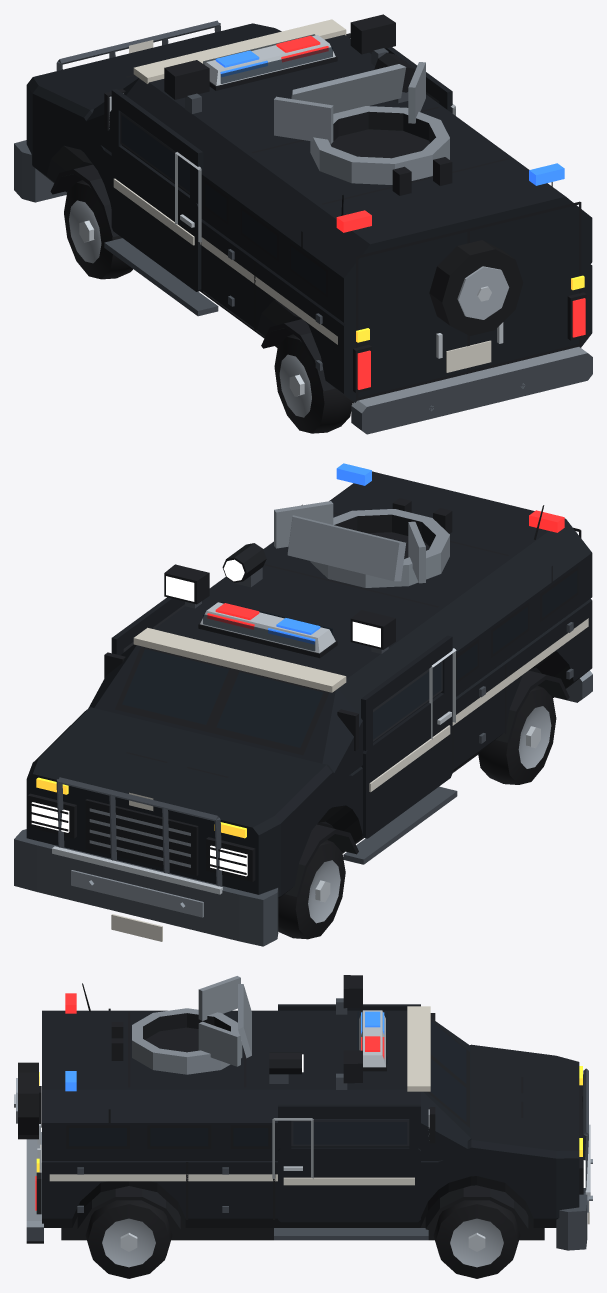
File: police_tactical.glb
3 views of the same model, one above another, from view 1: azimuth 30°, elevation 25°; view 2: azimuth 150°, elevation 25°; view 3: azimuth 270°, elevation 25° (orthographic). The views are drawn at different scales.
Visible parts, largest first — view 1: Body, DoorL, Wheel_RL, Wheel_FL, SirenBar, DoorR, SirenBar_L, SirenBar_R; view 2: Body, DoorL, Wheel_RL, Wheel_FL, SirenBar, DoorR, SirenBar_R, SirenBar_L; view 3: Body, DoorR, Wheel_FR, Wheel_RR, SirenBar, DoorL.
Boxes of the visible parts, box(x1,y1,x2,y2) form: Body: box(14, 14, 592, 434); DoorL: box(104, 89, 203, 291); Wheel_RL: box(274, 334, 352, 433); Wheel_FL: box(64, 180, 132, 279); SirenBar: box(203, 34, 337, 90); DoorR: box(346, 33, 452, 113); SirenBar_L: box(215, 50, 267, 76); SirenBar_R: box(276, 35, 328, 61); Body: box(14, 463, 592, 946); DoorL: box(337, 635, 452, 838); Wheel_RL: box(478, 685, 556, 784); Wheel_FL: box(278, 840, 345, 939); SirenBar: box(198, 601, 337, 658); DoorR: box(104, 597, 184, 678); SirenBar_R: box(207, 603, 259, 629); SirenBar_L: box(268, 618, 320, 643); Body: box(14, 975, 592, 1250); DoorR: box(278, 1104, 435, 1222); Wheel_FR: box(433, 1200, 520, 1278); Wheel_RR: box(85, 1200, 172, 1278); SirenBar: box(357, 1010, 387, 1071); DoorL: box(278, 1004, 435, 1020).
Bounding box in the file's own units: 2.57 × 2.61 × 5.99.
